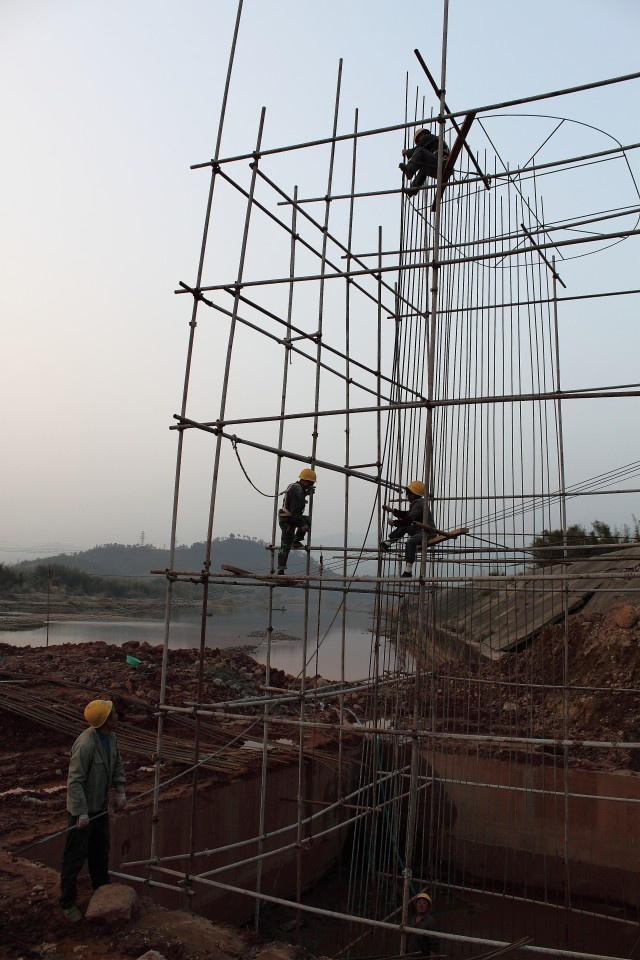yellow: (83, 694, 118, 733), (296, 467, 317, 490), (404, 480, 425, 502), (410, 125, 430, 146)
